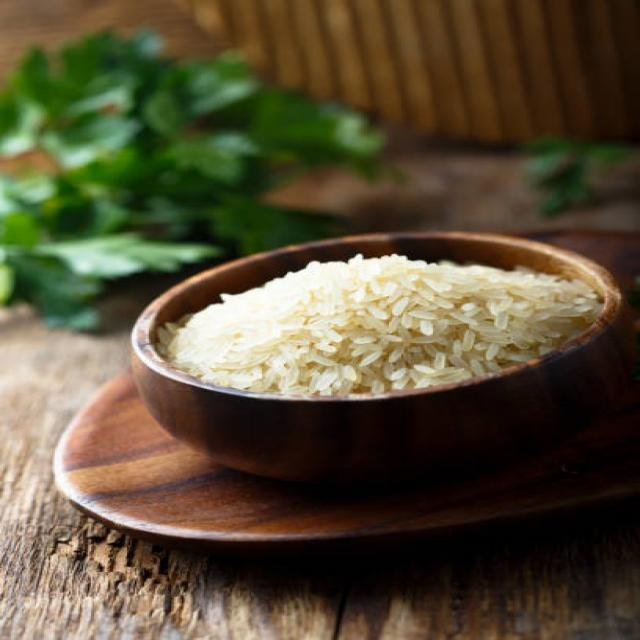rice: (157, 251, 601, 394)
